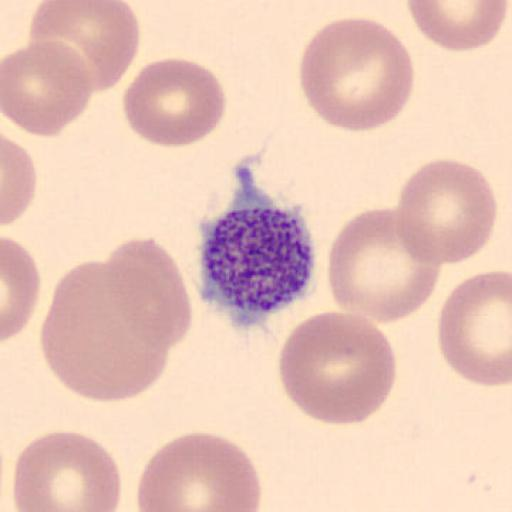Platelet: (192, 199, 320, 330)
RBC: (40, 259, 178, 401), (278, 308, 398, 427), (297, 15, 416, 133), (326, 204, 443, 324), (394, 156, 498, 266), (28, 0, 141, 95), (100, 236, 193, 348), (135, 431, 262, 512), (122, 56, 226, 149), (436, 268, 512, 388), (12, 430, 122, 512), (2, 40, 93, 138), (406, 0, 510, 52), (2, 234, 42, 343), (2, 133, 38, 227)
